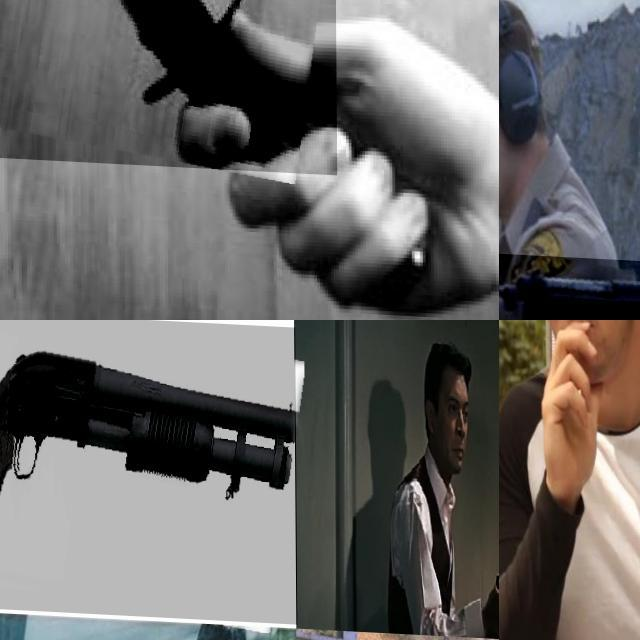-: (0, 0, 336, 215), (499, 421, 535, 592)
gun-knife-thesis - v11 Yolov5 augmented: (0, 320, 296, 621), (499, 107, 557, 285), (499, 249, 640, 320), (491, 561, 499, 613)
